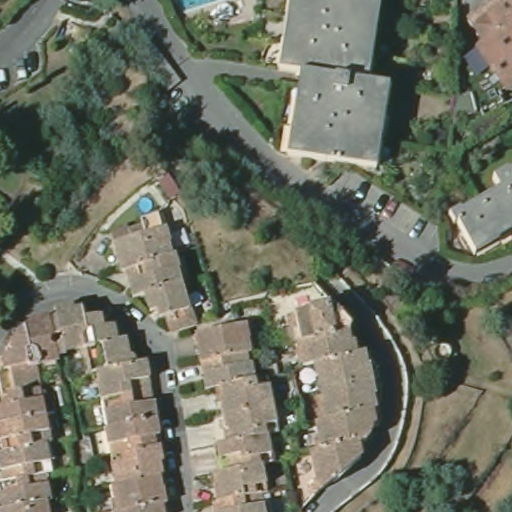pool: (181, 1, 222, 12), (137, 197, 154, 215)
